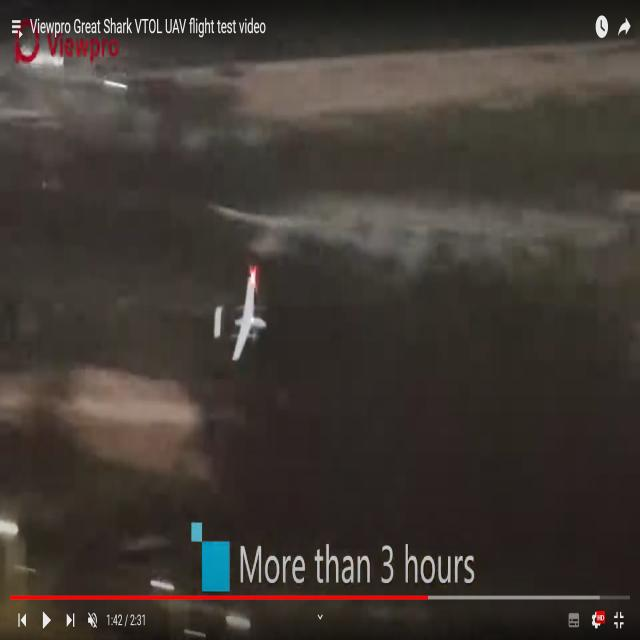iha: (213, 305, 268, 331)
